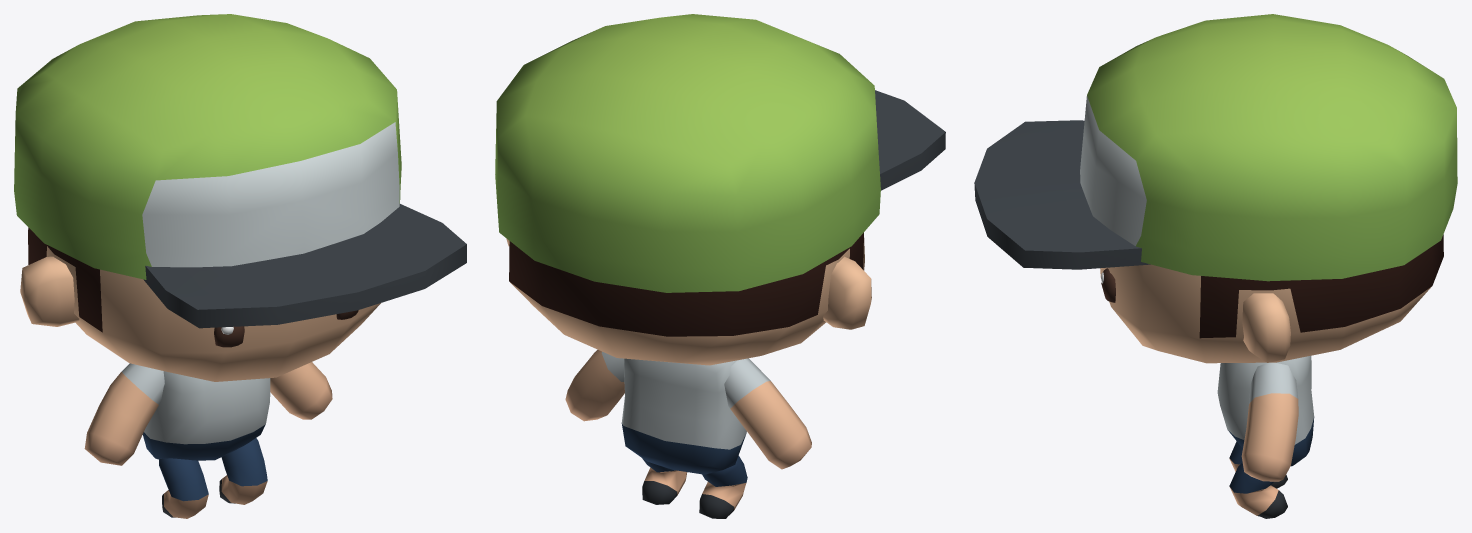
The model's file is jump_0003.obj.
3 views of the same model, side by side, from view 1: azimuth 30°, elevation 25°; view 2: azimuth 150°, elevation 25°; view 3: azimuth 270°, elevation 25° (orthographic). The views are drawn at different scales.
Visible parts, largest first — view 1: Object_41, Object_42, Object_44, Object_36, Object_38; view 2: Object_41, Object_36, Object_44, Object_42; view 3: Object_41, Object_36, Object_42, Object_44.
Boxes of the visible parts, left/top/right/bottom form: Object_41: left=14, top=14, right=401, bottom=279; Object_42: left=142, top=122, right=466, bottom=328; Object_44: left=84, top=362, right=332, bottom=518; Object_36: left=20, top=227, right=380, bottom=381; Object_38: left=214, top=310, right=358, bottom=347; Object_41: left=495, top=14, right=880, bottom=292; Object_36: left=506, top=232, right=871, bottom=365; Object_44: left=565, top=349, right=811, bottom=518; Object_42: left=875, top=90, right=945, bottom=190; Object_41: left=1087, top=14, right=1457, bottom=281; Object_36: left=1100, top=234, right=1443, bottom=363; Object_42: left=974, top=96, right=1150, bottom=269; Object_44: left=1217, top=355, right=1314, bottom=518.
Bounding box in the file's own units: 0.9691 × 1.18 × 1.13.
